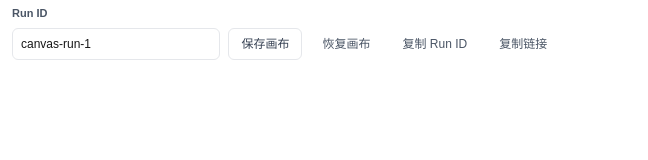
Scenario: ProductionCanvasRunControls › falls back when copying a canvas restore link with the current run id
The image size is (648, 160).
Click the button "复制链接" at (523, 44), box x1=487 y1=28 x2=559 y2=60
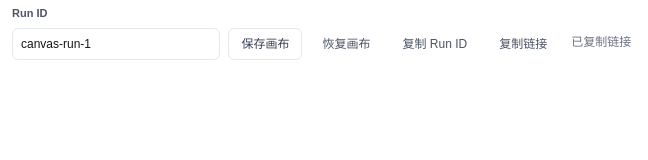
Now the text "已复制链接" is shown, box x1=571 y1=35 x2=631 y2=49
